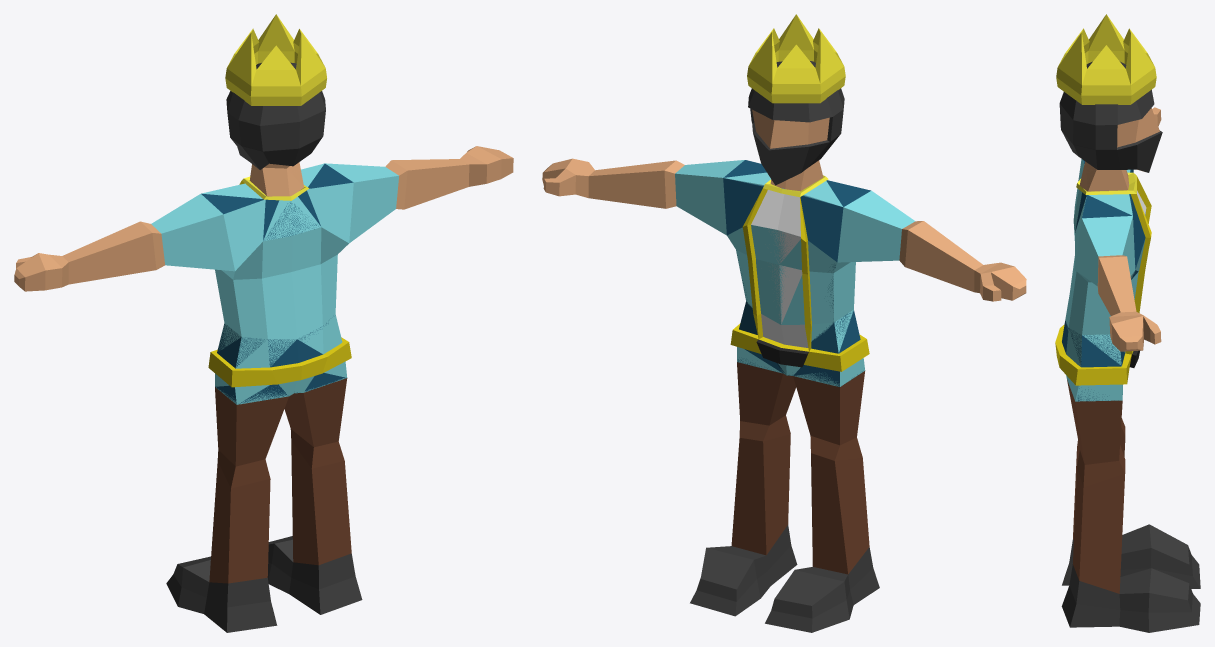
File: MainCharacter.fbx
3 renders of one model, left to right at view 1: azimuth 30°, elevation 25°; view 2: azimuth 150°, elevation 25°; view 3: azimuth 270°, elevation 25°, orthographic. The views are drawn at different scales.
Visible parts, largest first — view 1: Main, Main.004, Main.006; view 2: Main, Main.004, Main.006; view 3: Main, Main.004, Main.006.
Boxes of the visible parts, x1,y1,x2,y2 form: Main: [14, 62, 513, 632]; Main.004: [201, 14, 353, 404]; Main.006: [231, 137, 322, 169]; Main: [542, 61, 1026, 632]; Main.004: [723, 14, 870, 386]; Main.006: [750, 108, 840, 185]; Main: [1059, 61, 1200, 632]; Main.004: [1055, 14, 1156, 401]; Main.006: [1062, 127, 1162, 172].
Bounding box in the file's own units: 3.76 × 0.9699 × 4.2.
